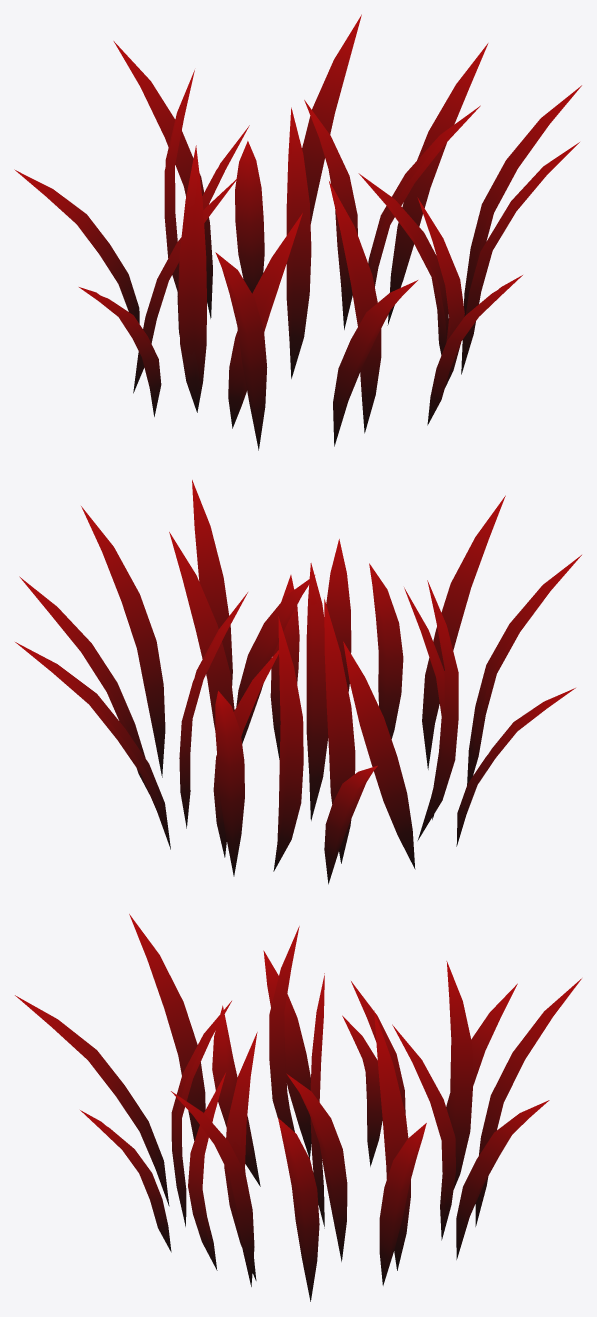
Rendered from Grass.fbx.
The picture shows the model from 3 angles, top to bottom: view 1: azimuth 30°, elevation 25°; view 2: azimuth 150°, elevation 25°; view 3: azimuth 270°, elevation 25°; orthographic projection. The views are drawn at different scales.
Visible parts, largest first — view 1: Grass; view 2: Grass; view 3: Grass.
Part boxes in pixels (bbox=[...]): Grass: bbox=[14, 14, 581, 450]; Grass: bbox=[15, 480, 581, 884]; Grass: bbox=[15, 914, 581, 1301].
Bounding box in the file's own units: 1024 × 525 × 1051.
